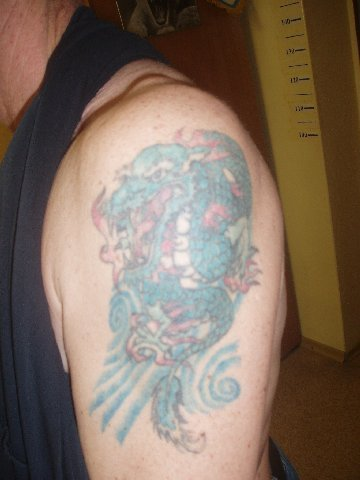tatu6_drakon: (86, 124, 270, 438)
